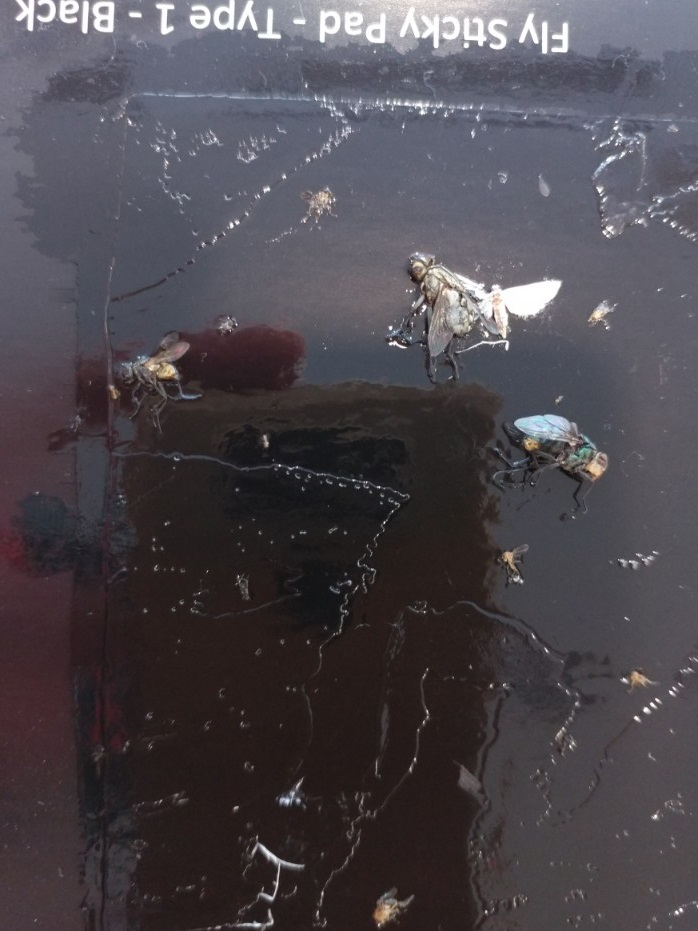house fly: (373, 245, 561, 387), (479, 406, 611, 525), (104, 336, 202, 432)
